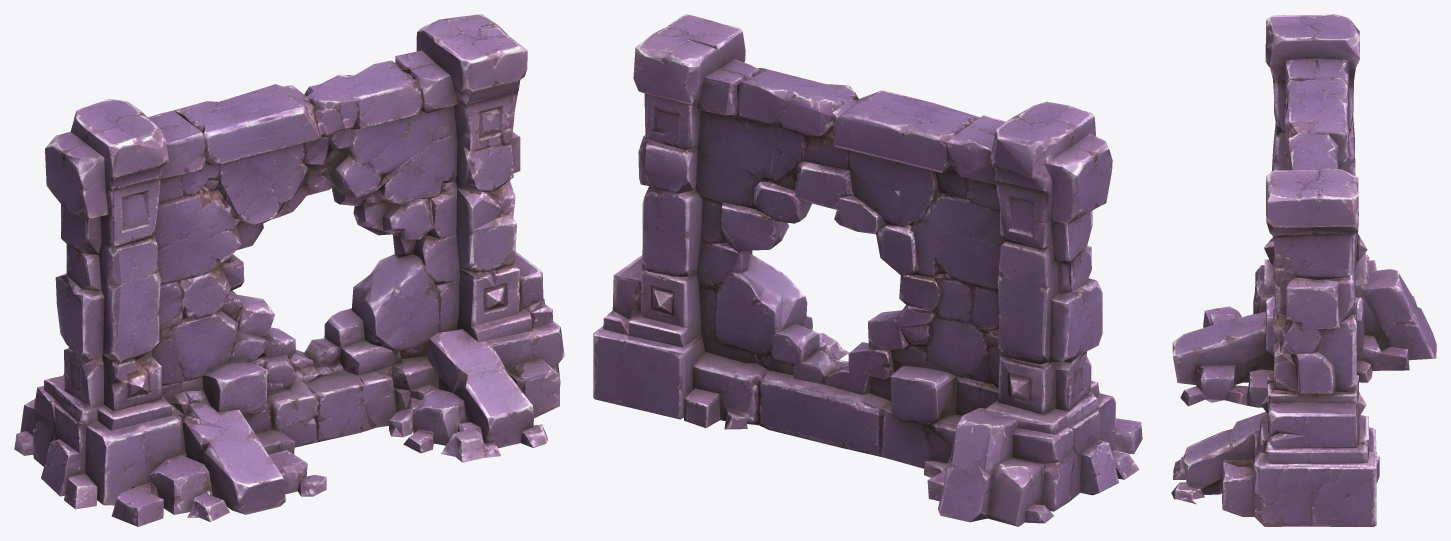
Rendered from cracked_wall_broken.glb.
3 renders of one model, left to right at view 1: azimuth 30°, elevation 25°; view 2: azimuth 150°, elevation 25°; view 3: azimuth 270°, elevation 25°, orthographic. The views are drawn at different scales.
Visible parts, largest first — view 1: body; view 2: body; view 3: body.
Boxes of the visible parts, left/top/right/bottom form: body: left=14, top=14, right=564, bottom=526; body: left=593, top=14, right=1142, bottom=526; body: left=1171, top=14, right=1436, bottom=526.
Bounding box in the file's own units: 4.3 × 3 × 2.26.
1 material, 1 textured.
